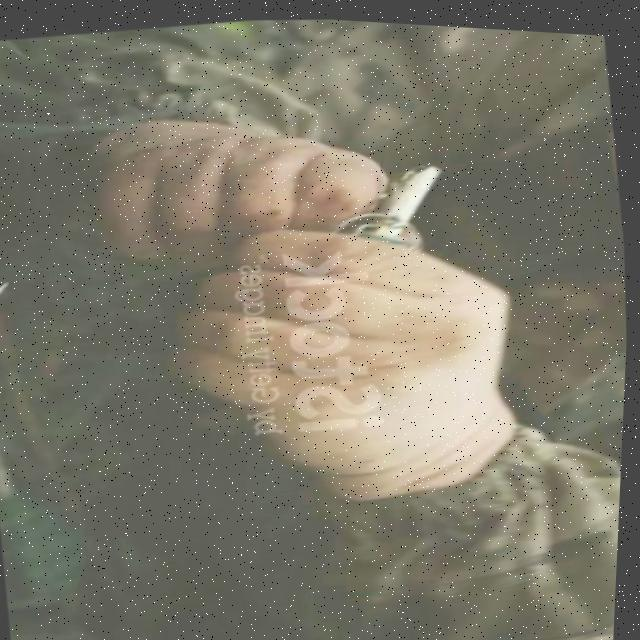grenade: (327, 140, 458, 256)
